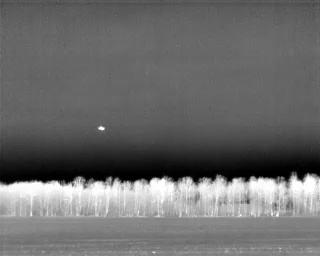DRONE: (95, 121, 110, 136)
